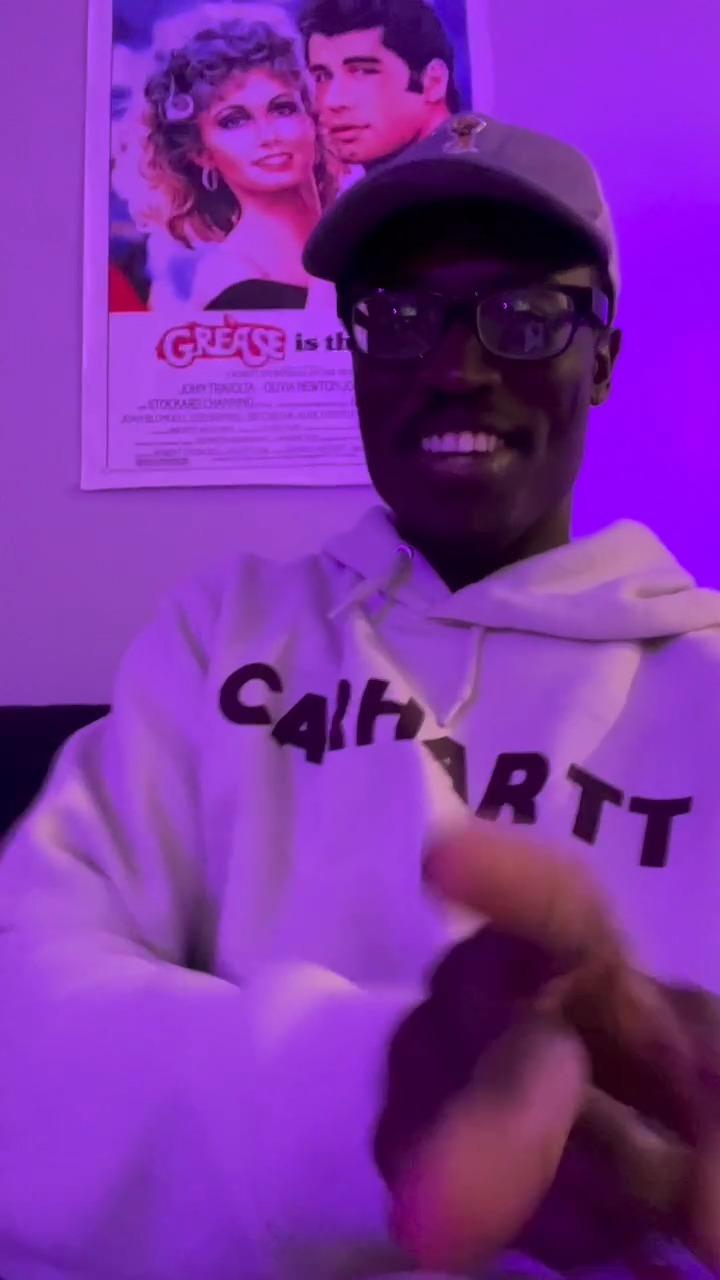Scissors: (364, 823, 720, 1280)
